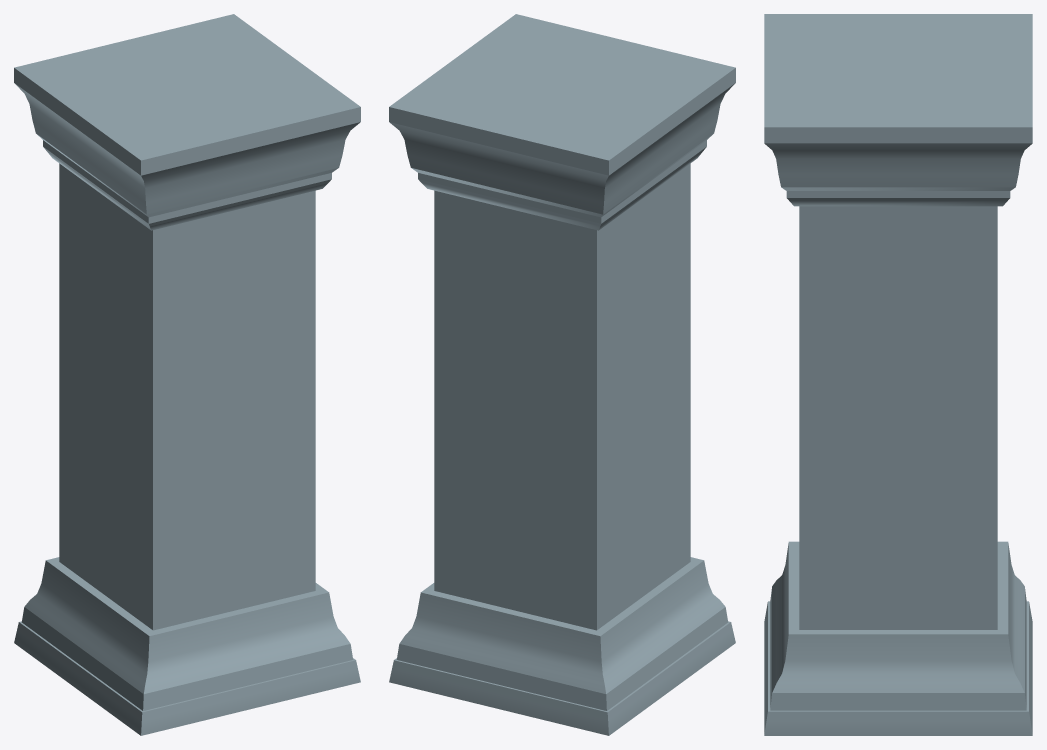
Rendered from Pillar.fbx.
3 views of the same model, side by side, from view 1: azimuth 30°, elevation 25°; view 2: azimuth 150°, elevation 25°; view 3: azimuth 270°, elevation 25° (orthographic). The views are drawn at different scales.
Visible parts, largest first — view 1: Cube.017; view 2: Cube.017; view 3: Cube.017.
Part boxes in pixels (left/top/right/bottom): Cube.017: left=14, top=14, right=360, bottom=735; Cube.017: left=389, top=14, right=735, bottom=735; Cube.017: left=764, top=14, right=1032, bottom=735.
Size of the model in its own units: 80 by 200 by 80.
1 material, 1 textured.
